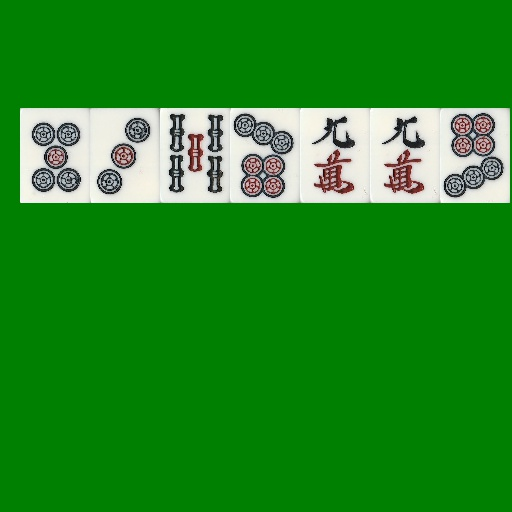3p: (90, 108, 160, 203)
5p: (20, 108, 90, 203)
5s: (160, 108, 230, 203)
7p: (230, 108, 300, 203), (440, 108, 510, 203)
9m: (300, 108, 370, 203), (370, 108, 440, 203)
